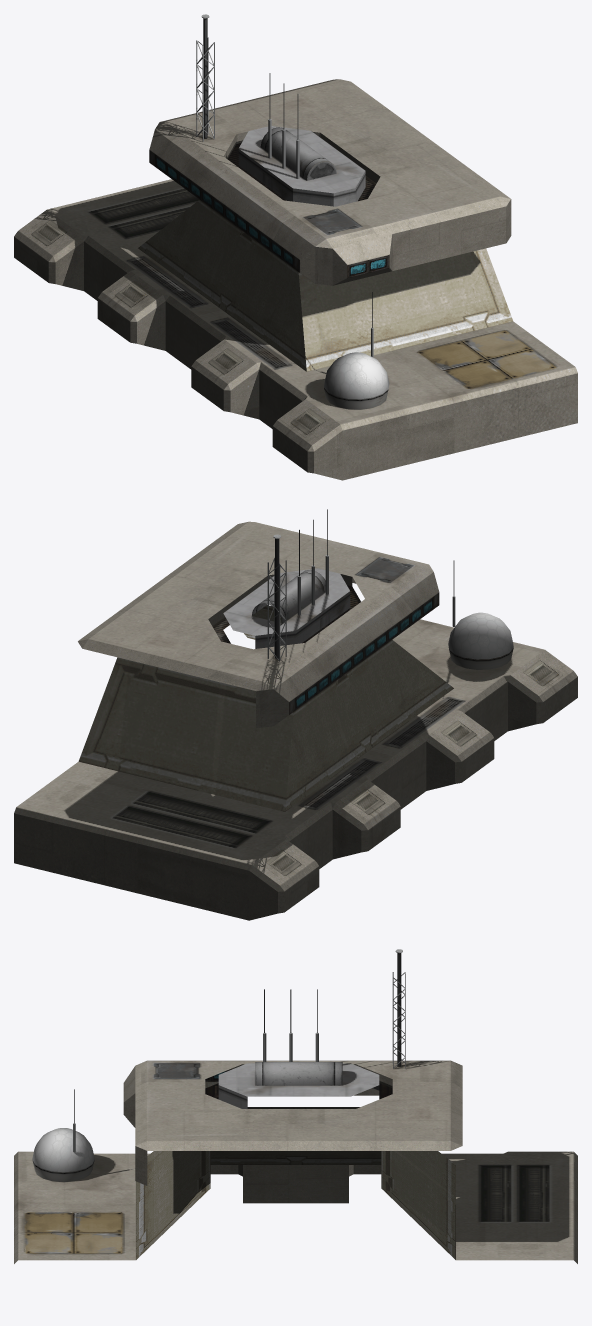
Rendered from ML2_Turret_R.FBX.
3 views of the same model, one above another, from view 1: azimuth 30°, elevation 25°; view 2: azimuth 150°, elevation 25°; view 3: azimuth 270°, elevation 25° (orthographic). The views are drawn at different scales.
Visible parts, largest first — view 1: ML2_ Turret_R; view 2: ML2_ Turret_R; view 3: ML2_ Turret_R.
Boxes of the visible parts, x1=… form: ML2_ Turret_R: x1=14, y1=14, x2=577, y2=480; ML2_ Turret_R: x1=14, y1=509, x2=577, y2=920; ML2_ Turret_R: x1=14, y1=949, x2=577, y2=1263.
Size of the model in its own units: 8.63 by 9.08 by 16.39.
Materials: 1 (1 with a texture image).
